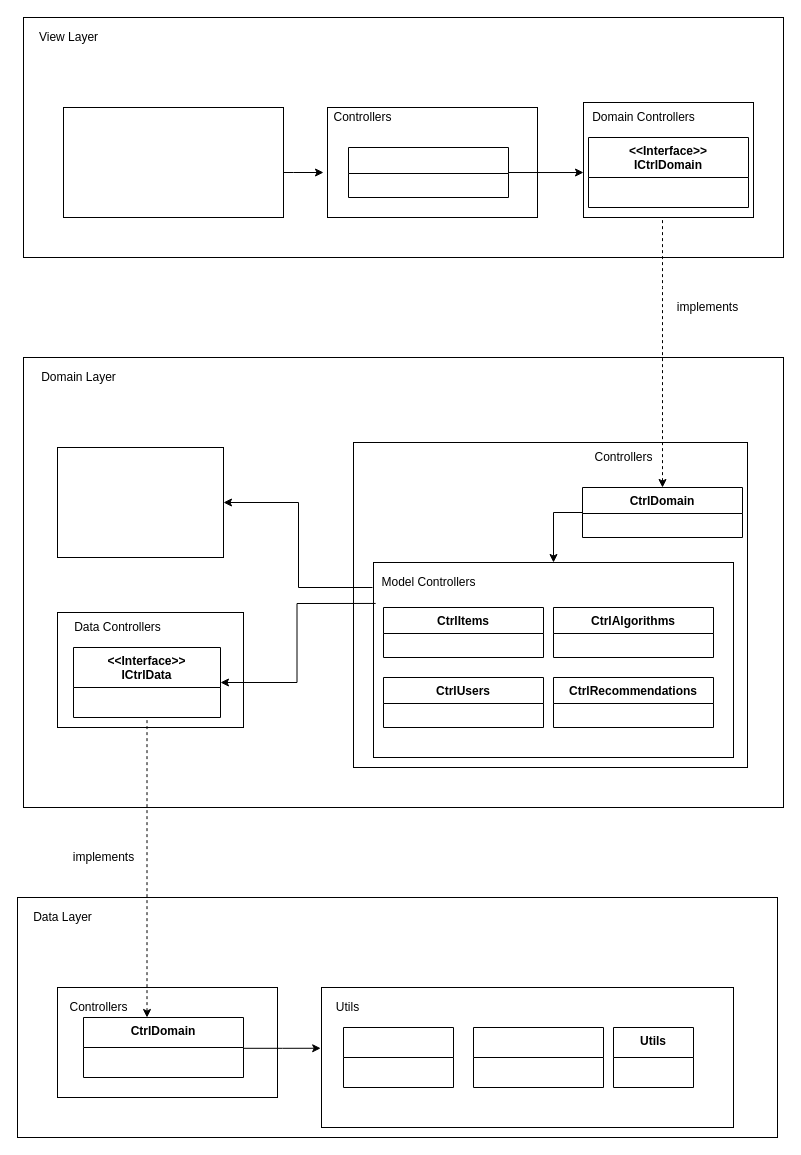
Some shapes in this 801 by 1155 pixel diagram are drawn without their labels. Here are the shapes that lost their labels. From the top down, the centre of each, then its label:
pixel 173 162: Views
pixel 428 172: CtrlView
pixel 140 502: Models
pixel 398 1057: DataUtils
pixel 538 1057: CSVReader
